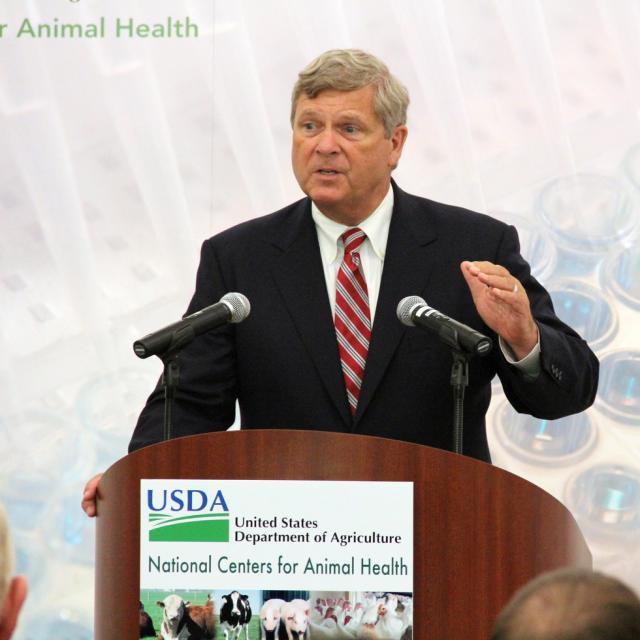no_helmet: (290, 44, 423, 110)
